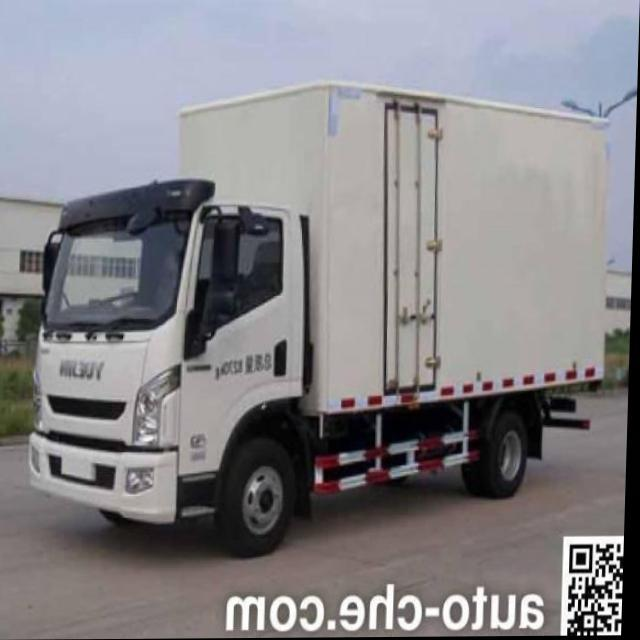covered: (61, 70, 635, 546)
